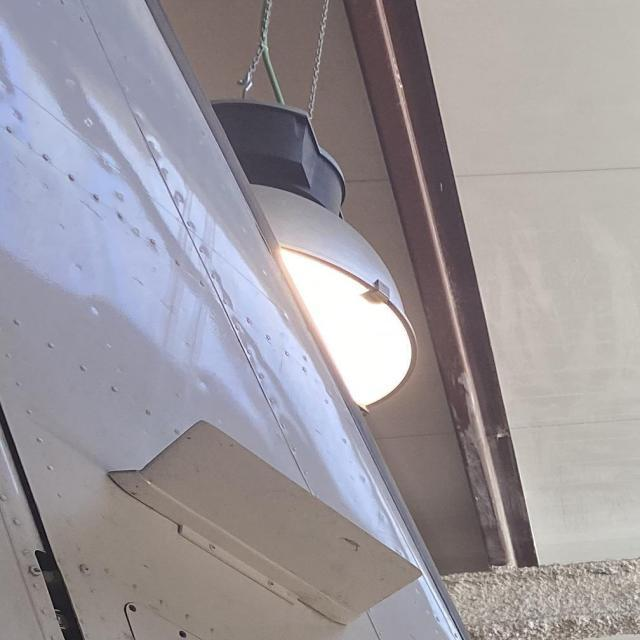Paint-off: (341, 536, 363, 552)
